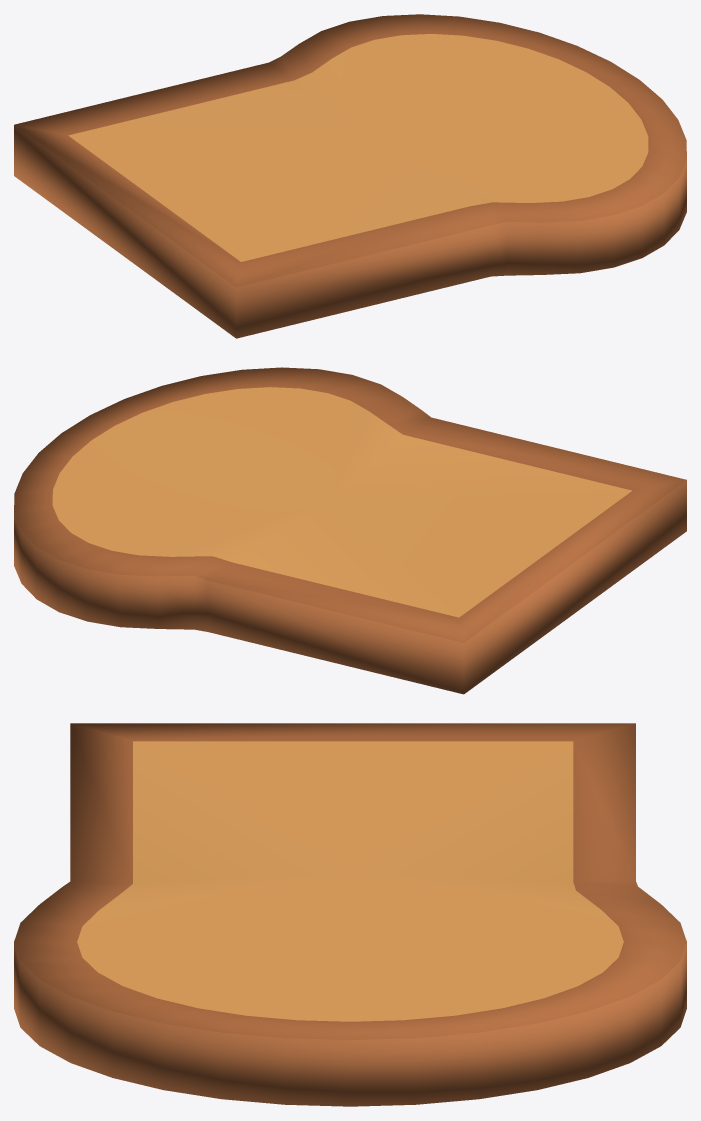
The model's file is BreadFried.fbx.
The picture shows the model from 3 angles, top to bottom: view 1: azimuth 30°, elevation 25°; view 2: azimuth 150°, elevation 25°; view 3: azimuth 270°, elevation 25°; orthographic projection. The views are drawn at different scales.
Visible parts, largest first — view 1: PAO; view 2: PAO; view 3: PAO.
Part boxes in pixels (left/top/right/bottom): PAO: left=14, top=14, right=686, bottom=338; PAO: left=14, top=367, right=686, bottom=694; PAO: left=14, top=723, right=686, bottom=1106.
Bounding box in the file's own units: 663 × 66.39 × 591.
Materials: 1 (1 with a texture image).
